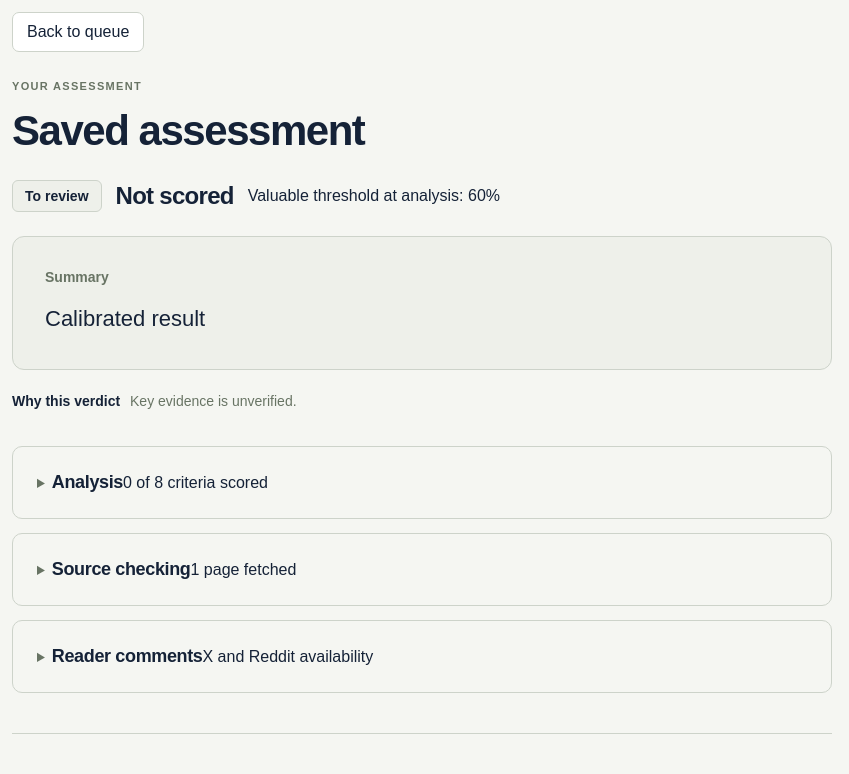
Test case: shows unscored criteria and coverage without fake zero scores
Expected: the text "Calibrated result" is shown, [45,306,205,330]
Expected: the text "To review" is shown, [12,180,102,212]
Click the heading "Analysis" at {"x": 87, "y": 482}, box [52,472,123,492]
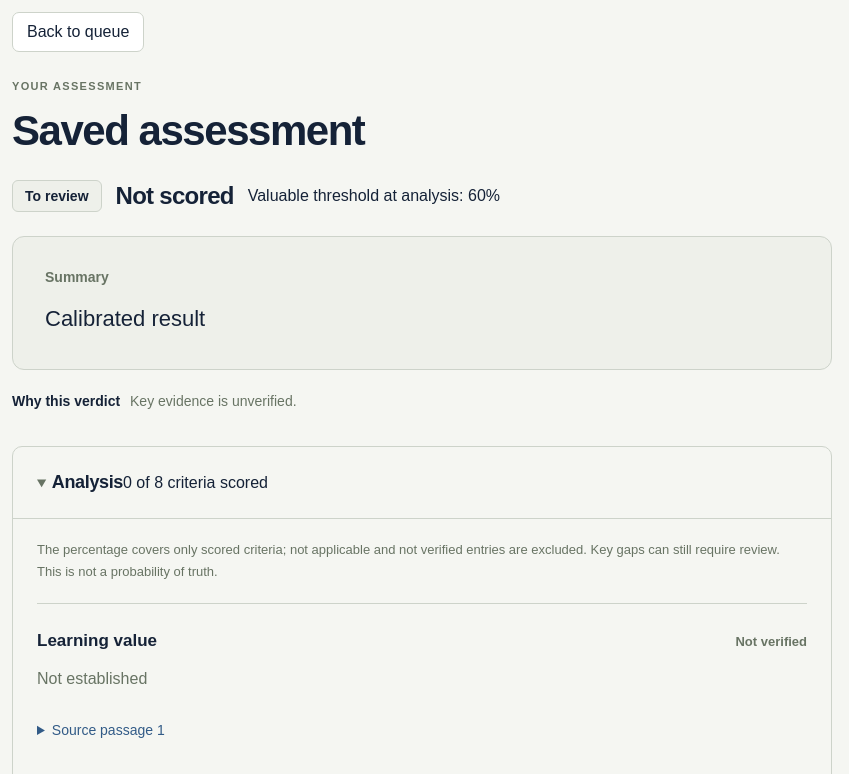
Expected: the text "Key evidence is unverified." is shown, [130,393,296,409]
Expected: the element "Learning value" shows "Not verified", [736,634,807,649]
